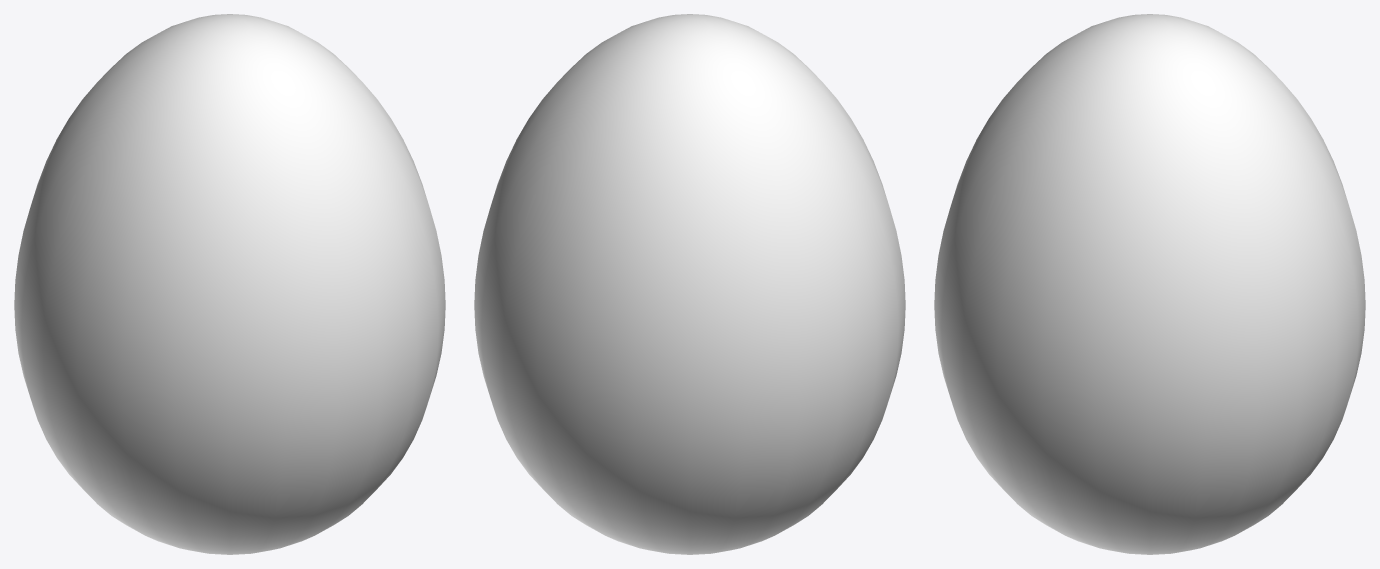
The model's file is baseegg.glb.
3 renders of one model, left to right at view 1: azimuth 30°, elevation 25°; view 2: azimuth 150°, elevation 25°; view 3: azimuth 270°, elevation 25°, orthographic.
Visible parts, largest first — view 1: SM_Egg_Standard; view 2: SM_Egg_Standard; view 3: SM_Egg_Standard.
Part boxes in pixels (left/top/right/bottom): SM_Egg_Standard: left=14, top=14, right=445, bottom=554; SM_Egg_Standard: left=474, top=14, right=905, bottom=554; SM_Egg_Standard: left=934, top=14, right=1365, bottom=554.
Bounding box in the file's own units: 0.23 × 0.3 × 0.23.
Materials: 1 (1 with a texture image).
